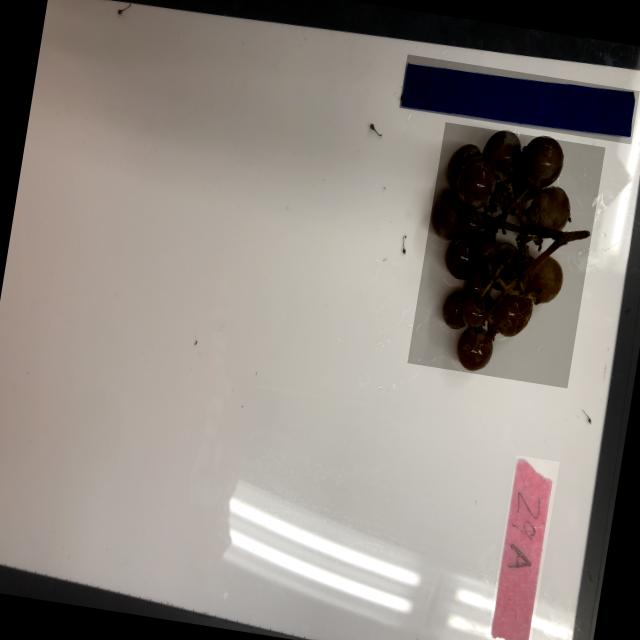grape_cluster: (406, 122, 604, 388)
index: (485, 455, 558, 640)
measure_label: (398, 54, 639, 144)
